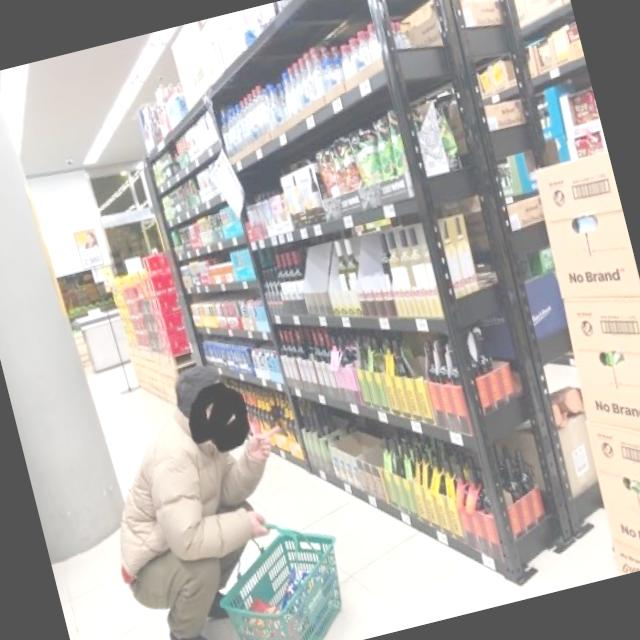cottonpants: (121, 534, 253, 640)
padding: (87, 390, 284, 578)
